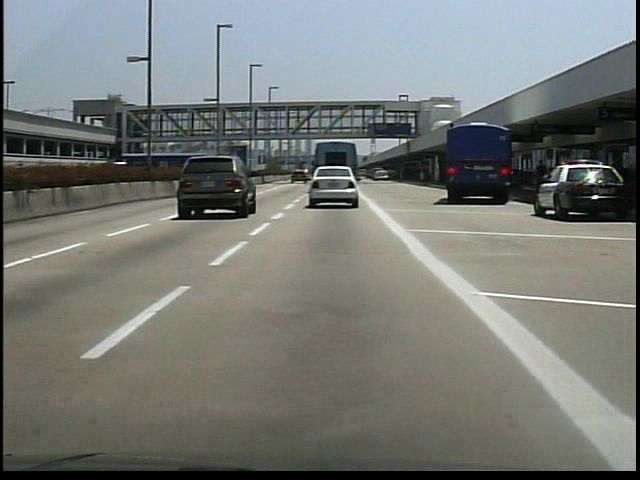person: (532, 154, 553, 201)
